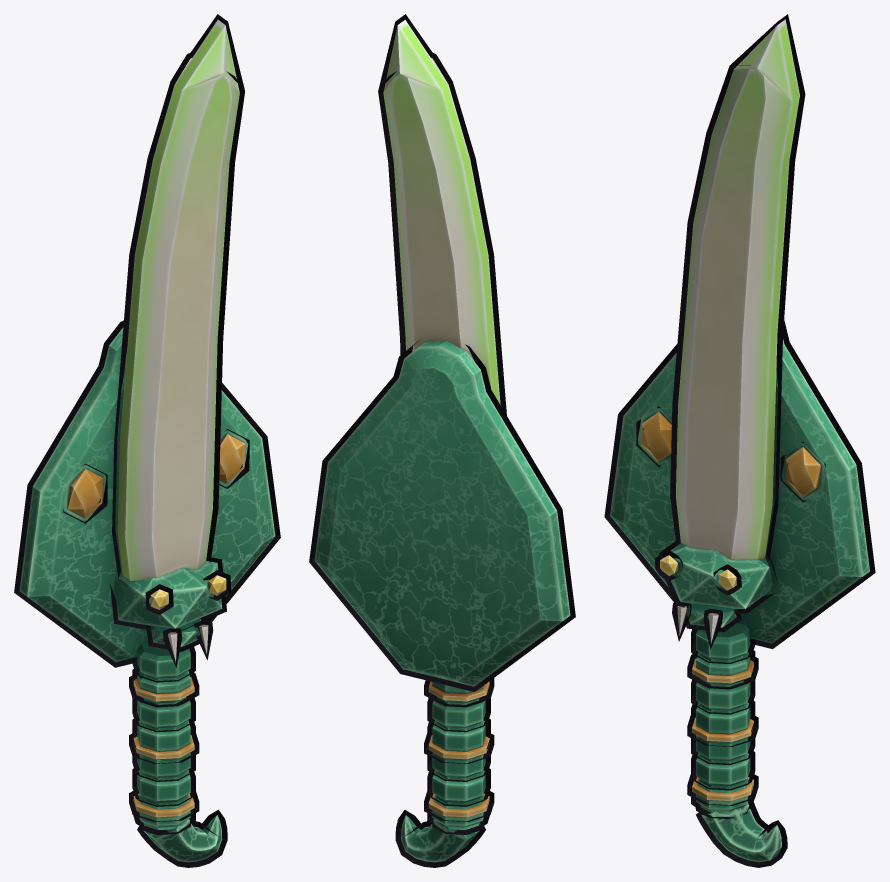
Rendered from CobraFang.fbx.
The picture shows the model from 3 angles, left to right: view 1: azimuth 30°, elevation 25°; view 2: azimuth 150°, elevation 25°; view 3: azimuth 330°, elevation 25°; orthographic projection.
Visible parts, largest first — view 1: CobraFang, CobraFangOutline; view 2: CobraFang, CobraFangOutline; view 3: CobraFang, CobraFangOutline.
Boxes of the visible parts, x1,y1,x2,y2 form: CobraFang: (19, 20, 275, 862); CobraFangOutline: (14, 14, 280, 867); CobraFang: (314, 20, 570, 862); CobraFangOutline: (309, 14, 575, 867); CobraFang: (610, 19, 869, 862); CobraFangOutline: (604, 14, 875, 867).
Size of the model in its own units: 116 by 361 by 44.9.
2 materials, 1 textured.
